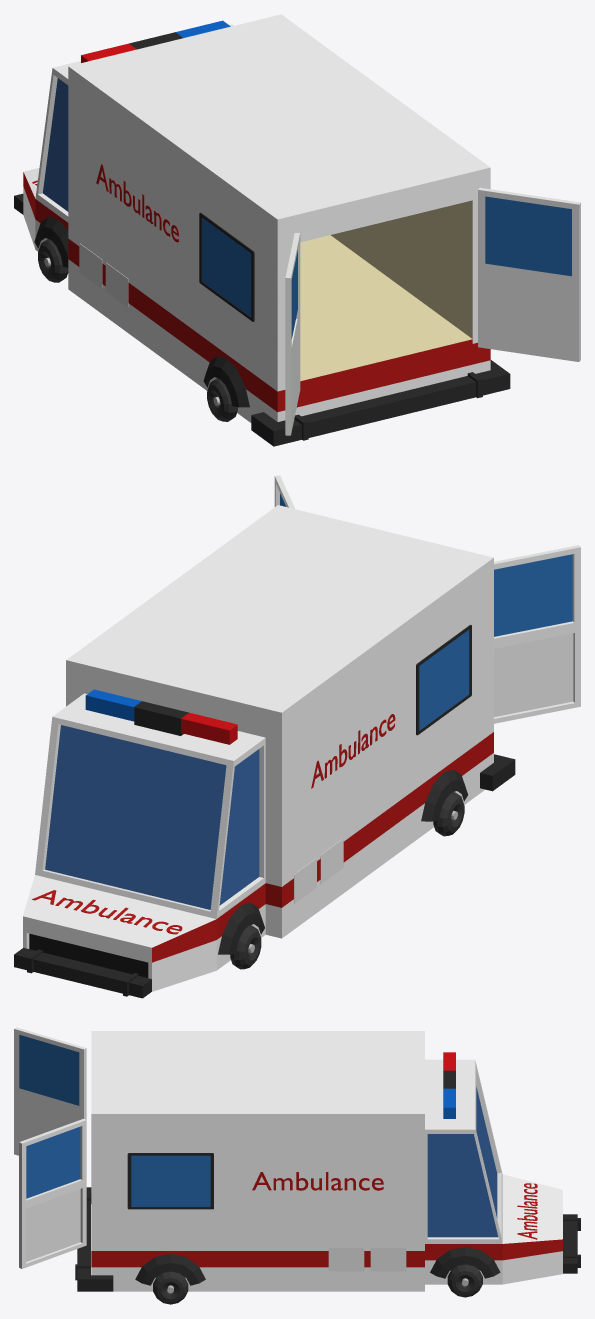
The picture shows the model from 3 angles, top to bottom: view 1: azimuth 30°, elevation 25°; view 2: azimuth 150°, elevation 25°; view 3: azimuth 270°, elevation 25°; orthographic projection. The views are drawn at different scales.
Parts seen in each view (by area): view 1: Body, Door_Right, Plane.005, Door_Left, Lalülala, Abdeckung_HL.003, Text.001, Abdeckung_HL.002, Reifen_HL.002, Reifen_HL.003, Plane, Plane.001; view 2: Body, Door_Left, Plane.005, Lalülala, Cube, Abdeckung_HL.002, Abdeckung_HL.003, Text.001, Text, Reifen_HL.002, Reifen_HL.003, Plane.001 (+1 smaller); view 3: Body, Door_Right, Door_Left, Plane.004, Abdeckung_HL, Abdeckung_HL.001, Cube, Reifen_HL.001, Reifen_HL, Text.002, Plane.002, Plane.003 (+2 smaller).
Part boxes in pixels (x1=…): Body: x1=23, y1=14, x2=510, y2=446; Door_Right: x1=478, y1=187, x2=580, y2=361; Plane.005: x1=199, y1=213, x2=254, y2=321; Door_Left: x1=285, y1=233, x2=300, y2=435; Lalülala: x1=81, y1=20, x2=230, y2=62; Abdeckung_HL.003: x1=203, y1=356, x2=249, y2=407; Text.001: x1=96, y1=164, x2=178, y2=242; Abdeckung_HL.002: x1=34, y1=216, x2=68, y2=267; Reifen_HL.002: x1=38, y1=239, x2=68, y2=282; Reifen_HL.003: x1=207, y1=378, x2=237, y2=421; Plane: x1=79, y1=243, x2=102, y2=288; Plane.001: x1=105, y1=262, x2=128, y2=307; Body: x1=23, y1=505, x2=515, y2=991; Door_Left: x1=494, y1=545, x2=580, y2=723; Plane.005: x1=416, y1=625, x2=471, y2=735; Lalülala: x1=85, y1=689, x2=237, y2=744; Cube: x1=14, y1=948, x2=151, y2=998; Abdeckung_HL.002: x1=218, y1=902, x2=264, y2=954; Abdeckung_HL.003: x1=421, y1=769, x2=467, y2=821; Text.001: x1=311, y1=714, x2=395, y2=788; Text: x1=32, y1=890, x2=182, y2=934; Reifen_HL.002: x1=230, y1=925, x2=261, y2=969; Reifen_HL.003: x1=433, y1=792, x2=464, y2=836; Plane.001: x1=320, y1=838, x2=343, y2=884; Body: x1=75, y1=1031, x2=562, y2=1291; Door_Right: x1=19, y1=1118, x2=86, y2=1268; Door_Left: x1=14, y1=1027, x2=86, y2=1155; Plane.004: x1=127, y1=1153, x2=213, y2=1209; Abdeckung_HL: x1=135, y1=1254, x2=205, y2=1285; Abdeckung_HL.001: x1=430, y1=1247, x2=500, y2=1278; Cube: x1=563, y1=1214, x2=580, y2=1273; Reifen_HL.001: x1=447, y1=1264, x2=482, y2=1297; Reifen_HL: x1=153, y1=1271, x2=188, y2=1304; Text.002: x1=252, y1=1172, x2=383, y2=1190; Plane.002: x1=370, y1=1248, x2=406, y2=1271; Plane.003: x1=328, y1=1248, x2=364, y2=1271.
Size of the model in its own units: 62.11 by 46.86 by 128.
1 material, 1 textured.
